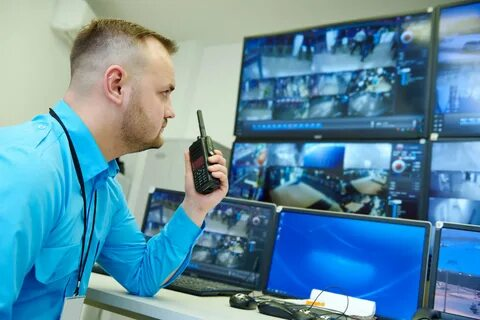awake: (1, 16, 230, 319)
